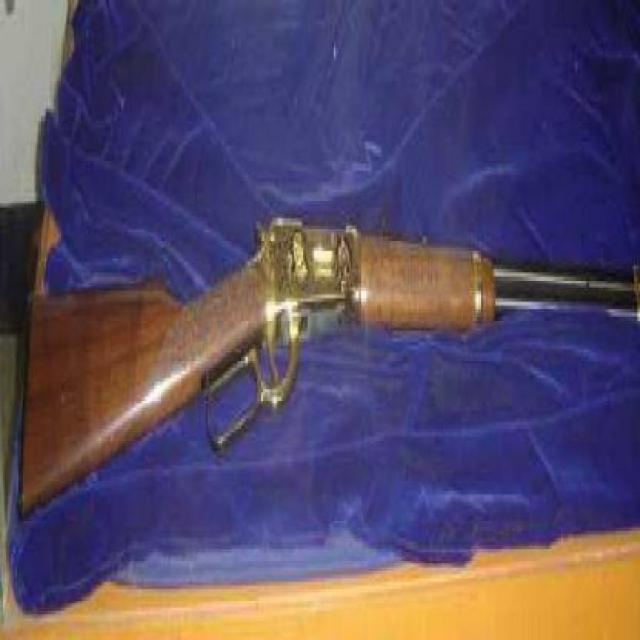weapon: (39, 234, 640, 464)
